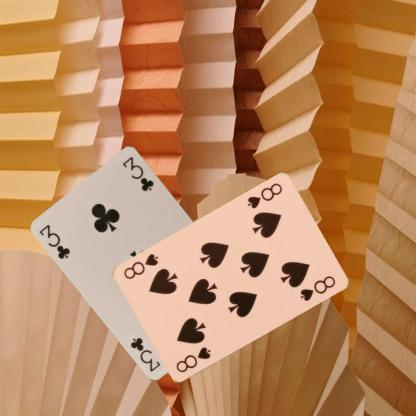3c: (37, 221, 73, 261)
8s: (244, 180, 284, 210), (173, 344, 212, 374)
